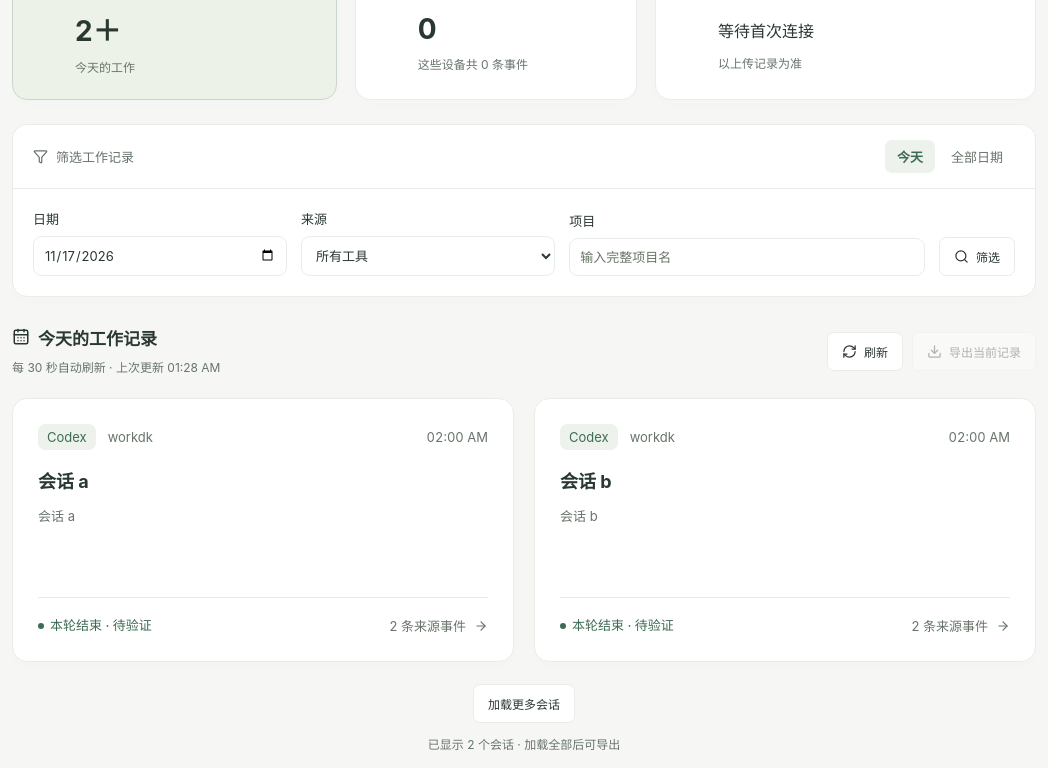
分页去重后仍按服务端返回条数推进 offset
The width and height of the screenshot is (1048, 768).
(page scrolled)
Click the button "加载更多会话" at point(524, 704), box [473, 684, 575, 723]
(page scrolled)
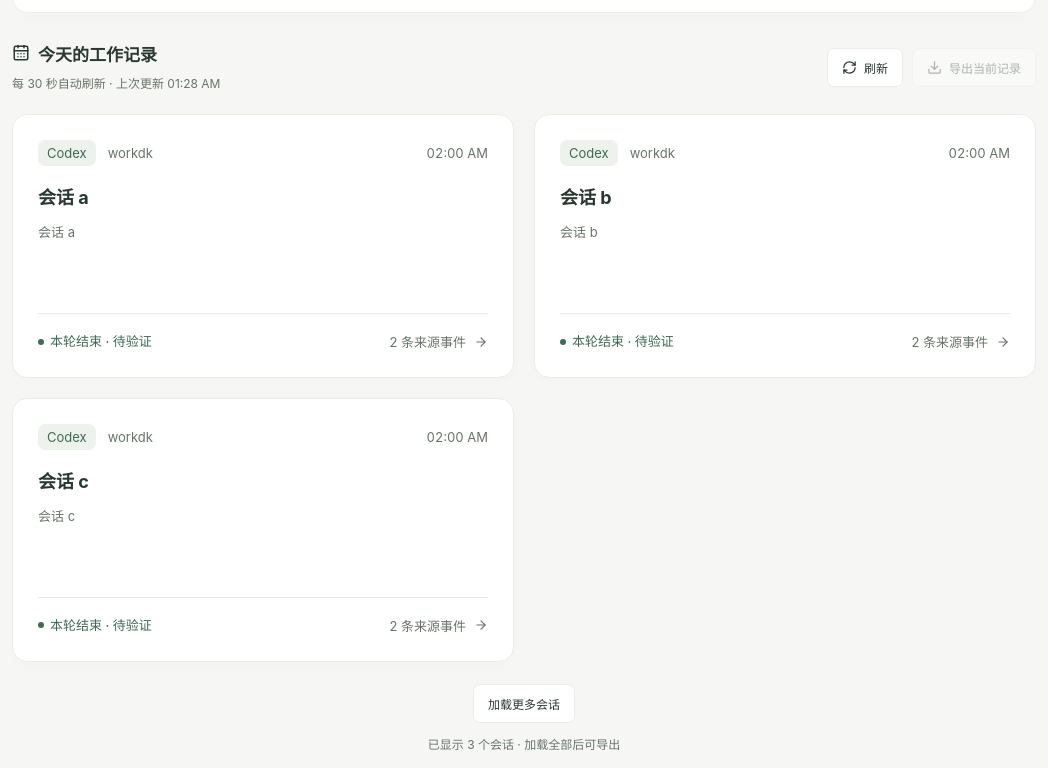
Now the heading "会话 c" is shown, box [38, 471, 89, 492]
Now the number of headings "会话 b" is 1, box [560, 187, 612, 208]
Click the button "加载更多会话" at point(524, 703), box [473, 684, 575, 723]
(page scrolled)
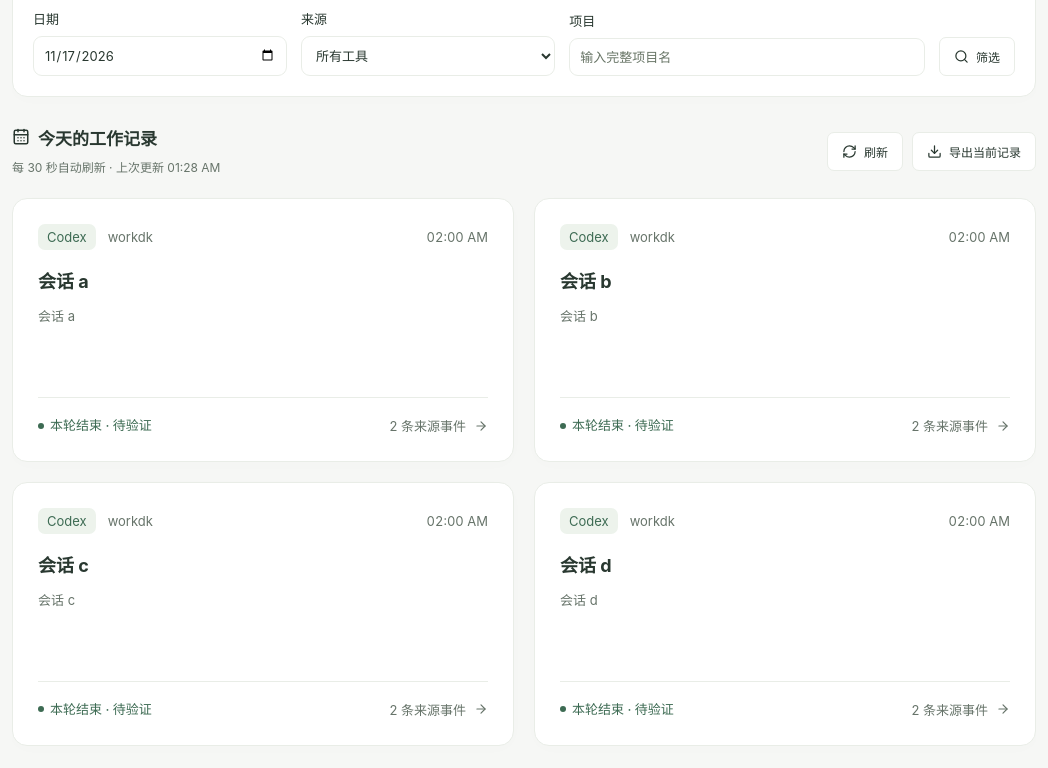
Now the heading "会话 d" is shown, box [560, 555, 612, 576]
